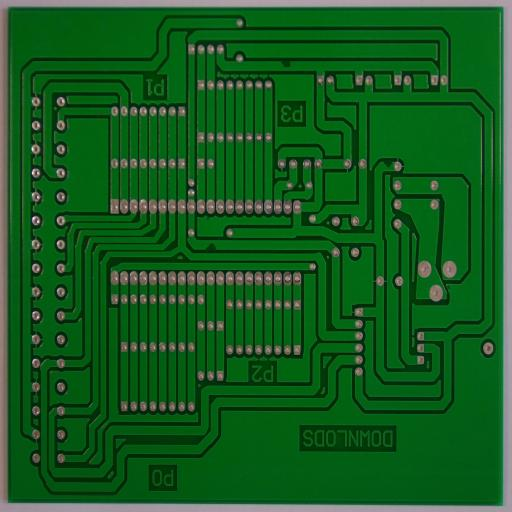mouse_bite: (202, 239, 218, 254), (278, 56, 293, 70), (381, 156, 394, 170)
